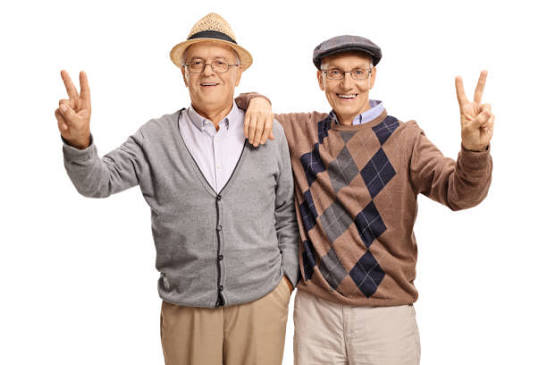peace_sign: (453, 61, 501, 155), (52, 62, 93, 139)
